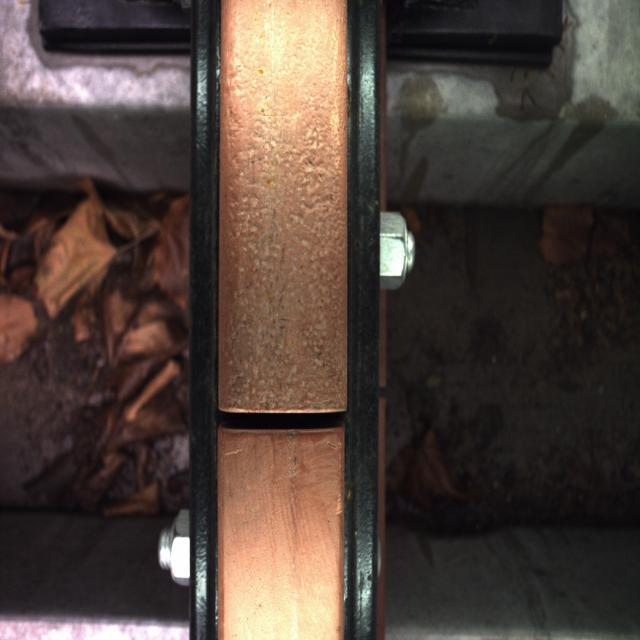spalling: (202, 340, 366, 492)
